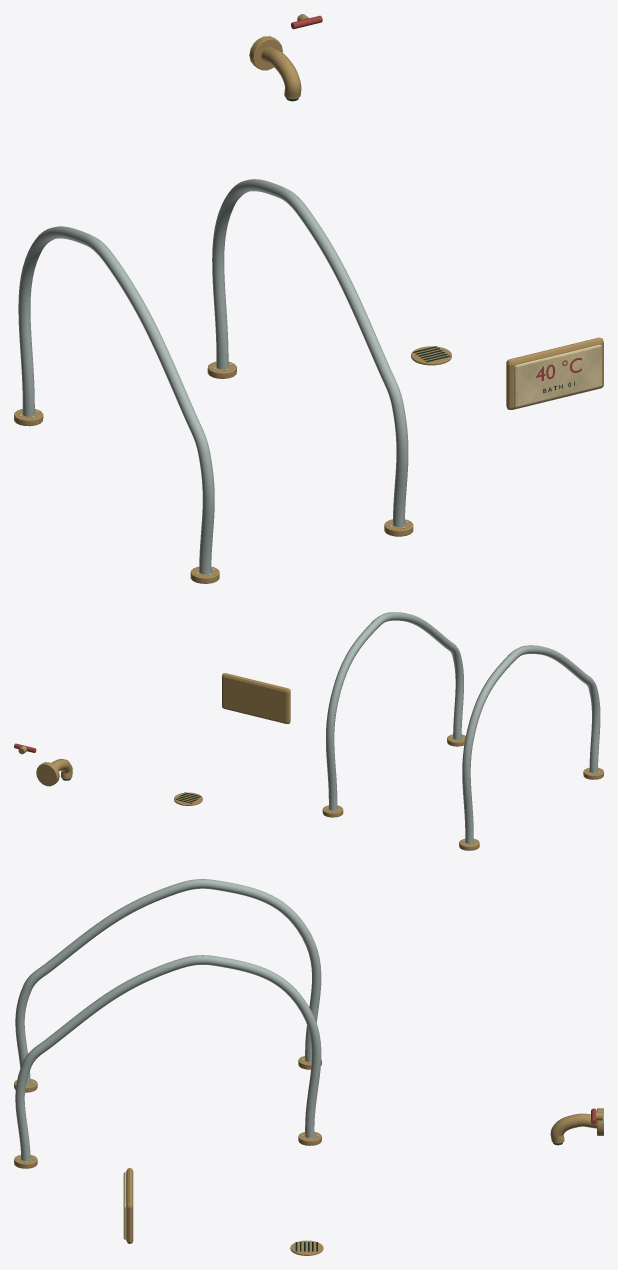
Rendered from SM_Bath_01_Hardware.fbx.
3 views of the same model, one above another, from view 1: azimuth 30°, elevation 25°; view 2: azimuth 150°, elevation 25°; view 3: azimuth 270°, elevation 25° (orthographic). The views are drawn at different scales.
Visible parts, largest first — view 1: SM_Bath_01_Hardware, SM_Bath_01_Details; view 2: SM_Bath_01_Hardware, SM_Bath_01_Details; view 3: SM_Bath_01_Hardware, SM_Bath_01_Details.
Boxes of the visible parts, bbox=[...] form: SM_Bath_01_Hardware: bbox=[14, 14, 413, 583]; SM_Bath_01_Details: bbox=[411, 337, 603, 409]; SM_Bath_01_Hardware: bbox=[14, 612, 603, 850]; SM_Bath_01_Details: bbox=[174, 673, 290, 805]; SM_Bath_01_Hardware: bbox=[14, 879, 603, 1168]; SM_Bath_01_Details: bbox=[123, 1168, 323, 1255].
Size of the model in its own units: 2.83 by 3.74 by 1.48.
5 materials, 2 textured.
